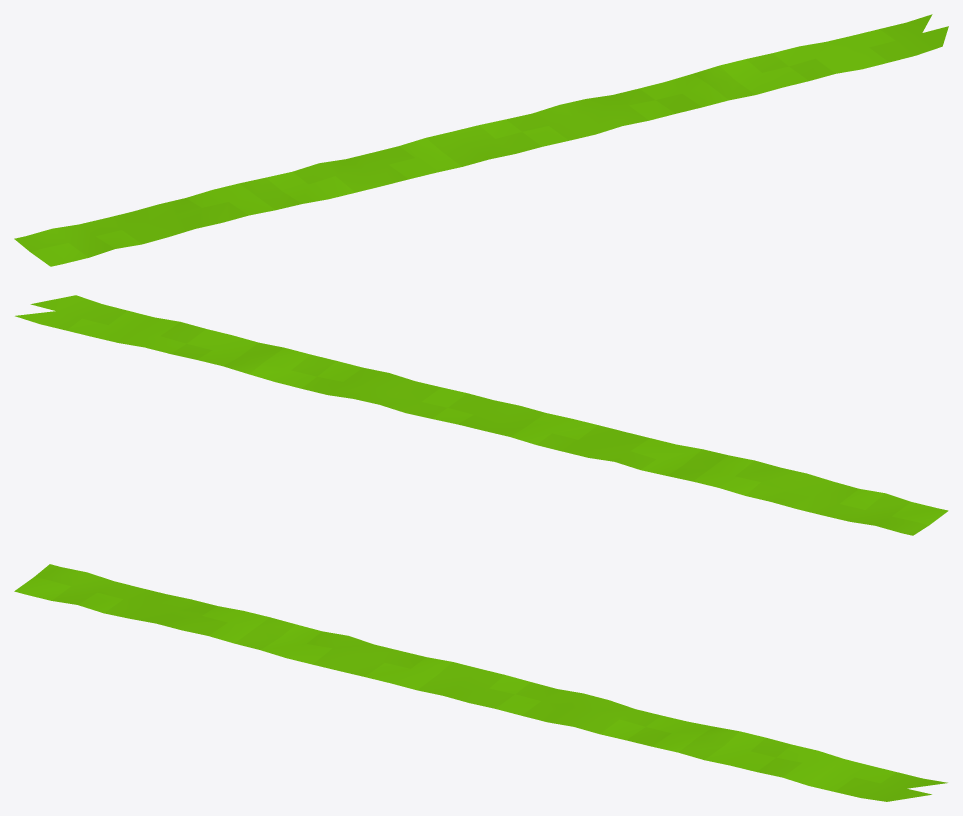
Rendered from fixabisiii2.fbx.
The picture shows the model from 3 angles, top to bottom: view 1: azimuth 30°, elevation 25°; view 2: azimuth 150°, elevation 25°; view 3: azimuth 330°, elevation 25°; orthographic projection. The views are drawn at different scales.
Parts seen in each view (by area): view 1: torpak.002; view 2: torpak.002; view 3: torpak.002.
Part boxes in pixels (x1,y1,x2,y2): torpak.002: [14, 14, 948, 266]; torpak.002: [15, 295, 948, 535]; torpak.002: [14, 564, 947, 801].
Bounding box in the file's own units: 3154 × 12.99 × 218.
